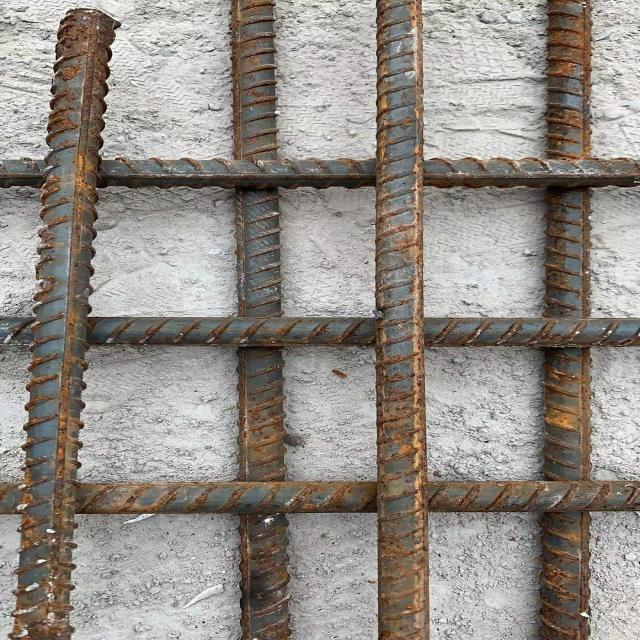ribbed bar: (5, 8, 121, 639), (223, 0, 295, 639), (530, 0, 594, 639), (372, 0, 430, 639), (0, 316, 639, 351), (0, 480, 639, 515), (0, 156, 639, 189)
